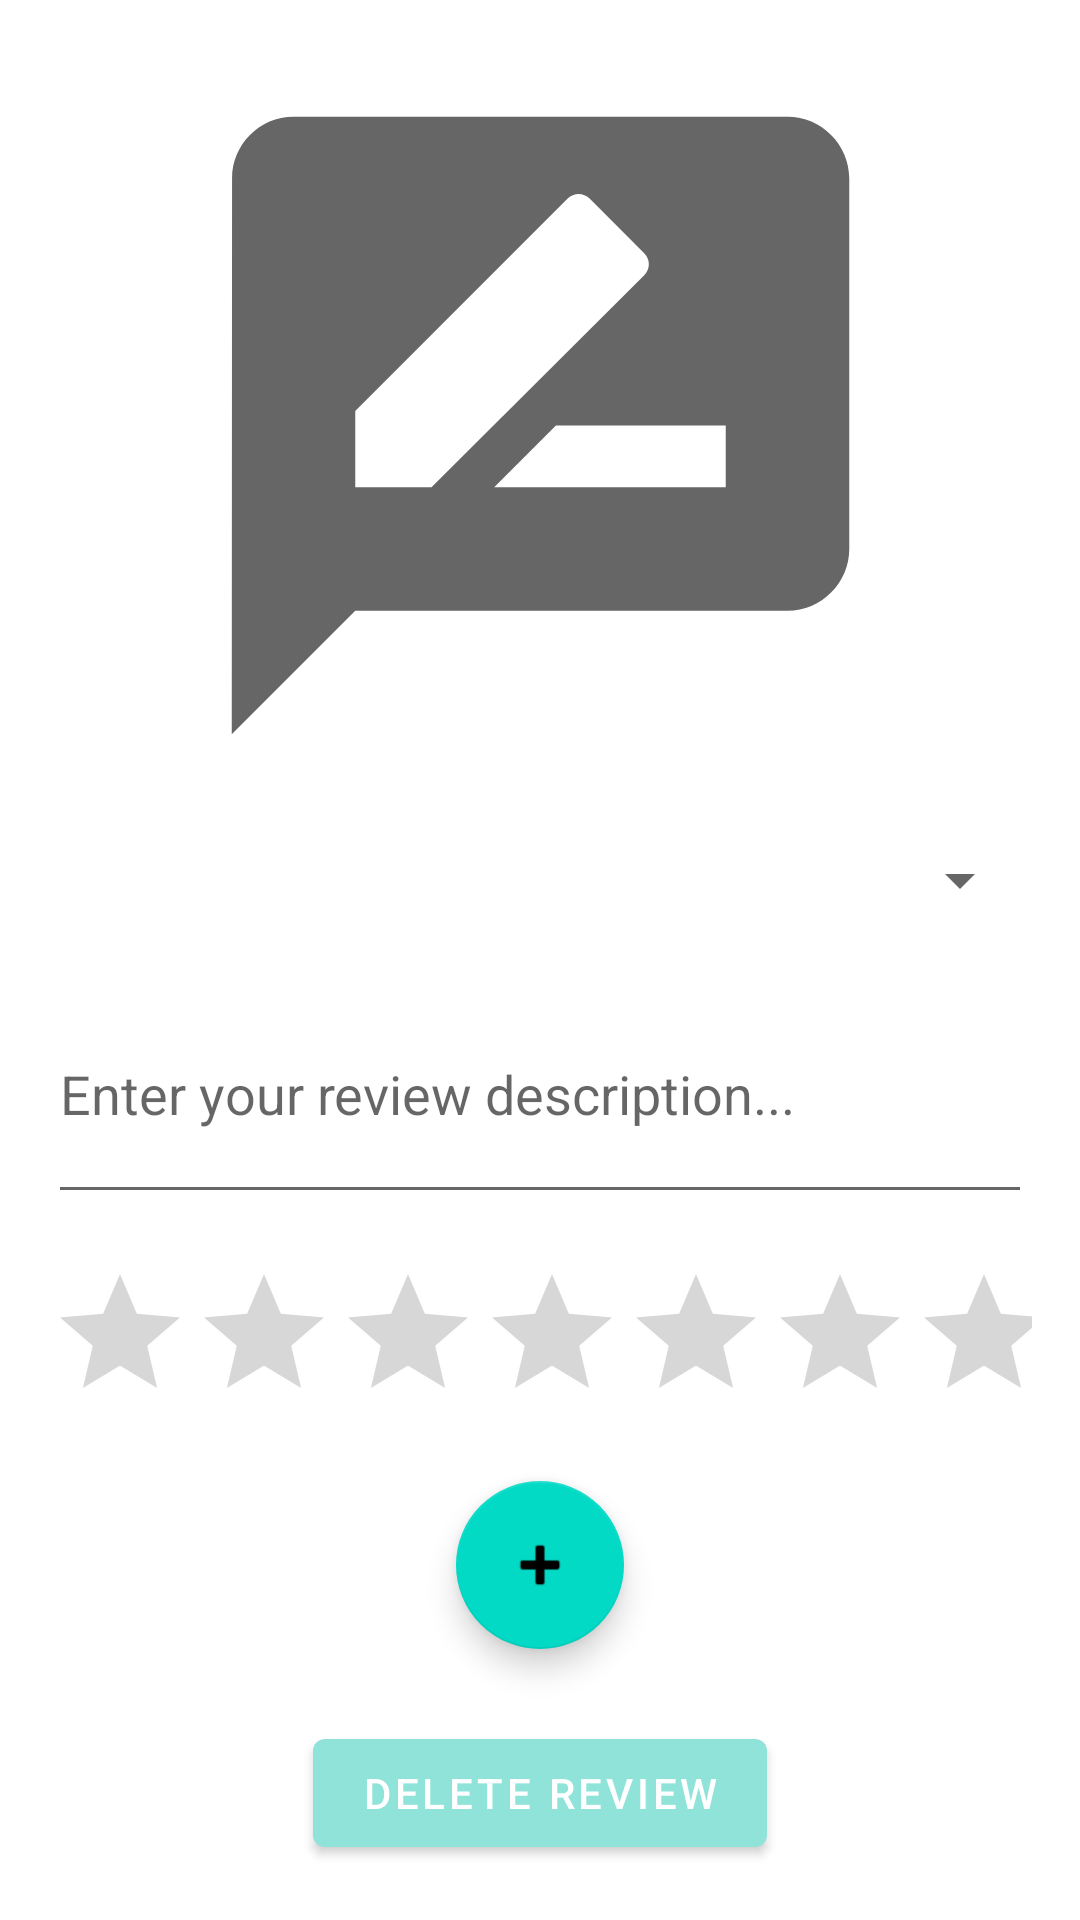

Icon click points for this 1080w x 1920h phone screenshot, format (x=x, y=y):
add: (x=540, y=1565)
